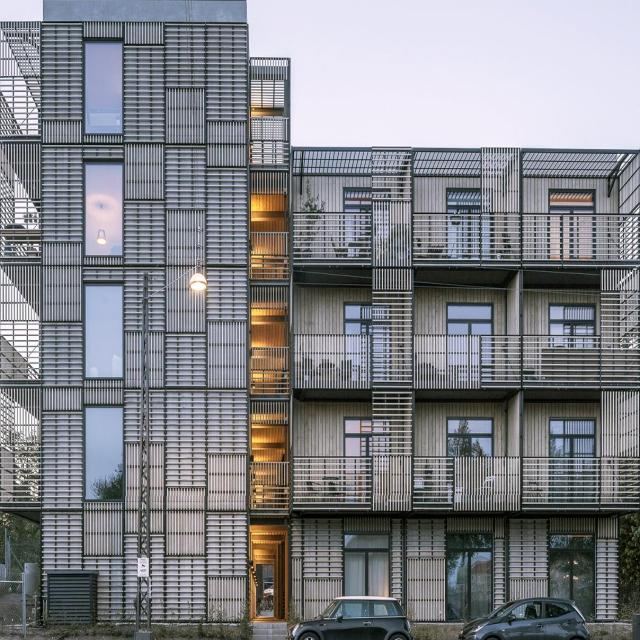door: (446, 532, 491, 623), (549, 537, 596, 614), (343, 535, 389, 597)
railing: (295, 336, 640, 389), (294, 213, 639, 265), (293, 450, 637, 502)
window: (83, 407, 124, 500), (83, 39, 123, 132), (84, 285, 123, 379), (85, 163, 123, 257), (549, 419, 596, 458), (346, 418, 390, 456), (446, 420, 493, 455), (549, 306, 596, 336), (347, 303, 391, 335), (449, 305, 493, 336), (549, 191, 594, 213), (448, 190, 482, 214), (346, 189, 371, 214)
